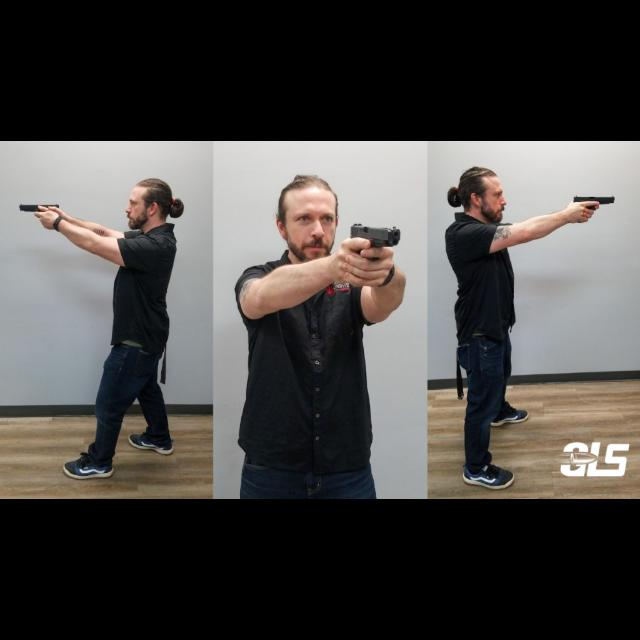handgun: (347, 222, 403, 262), (17, 198, 63, 220), (572, 193, 616, 211)
